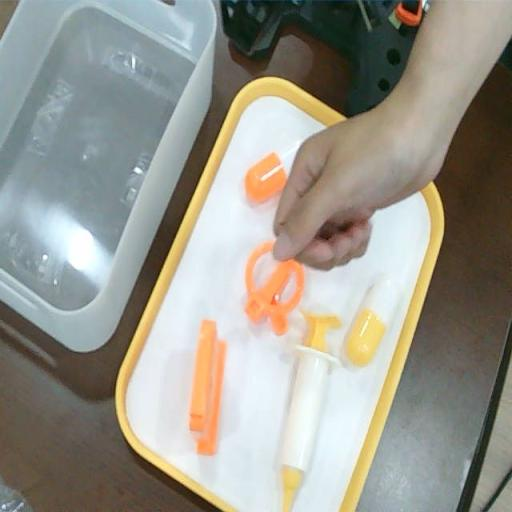hospital: (272, 109, 442, 272)
